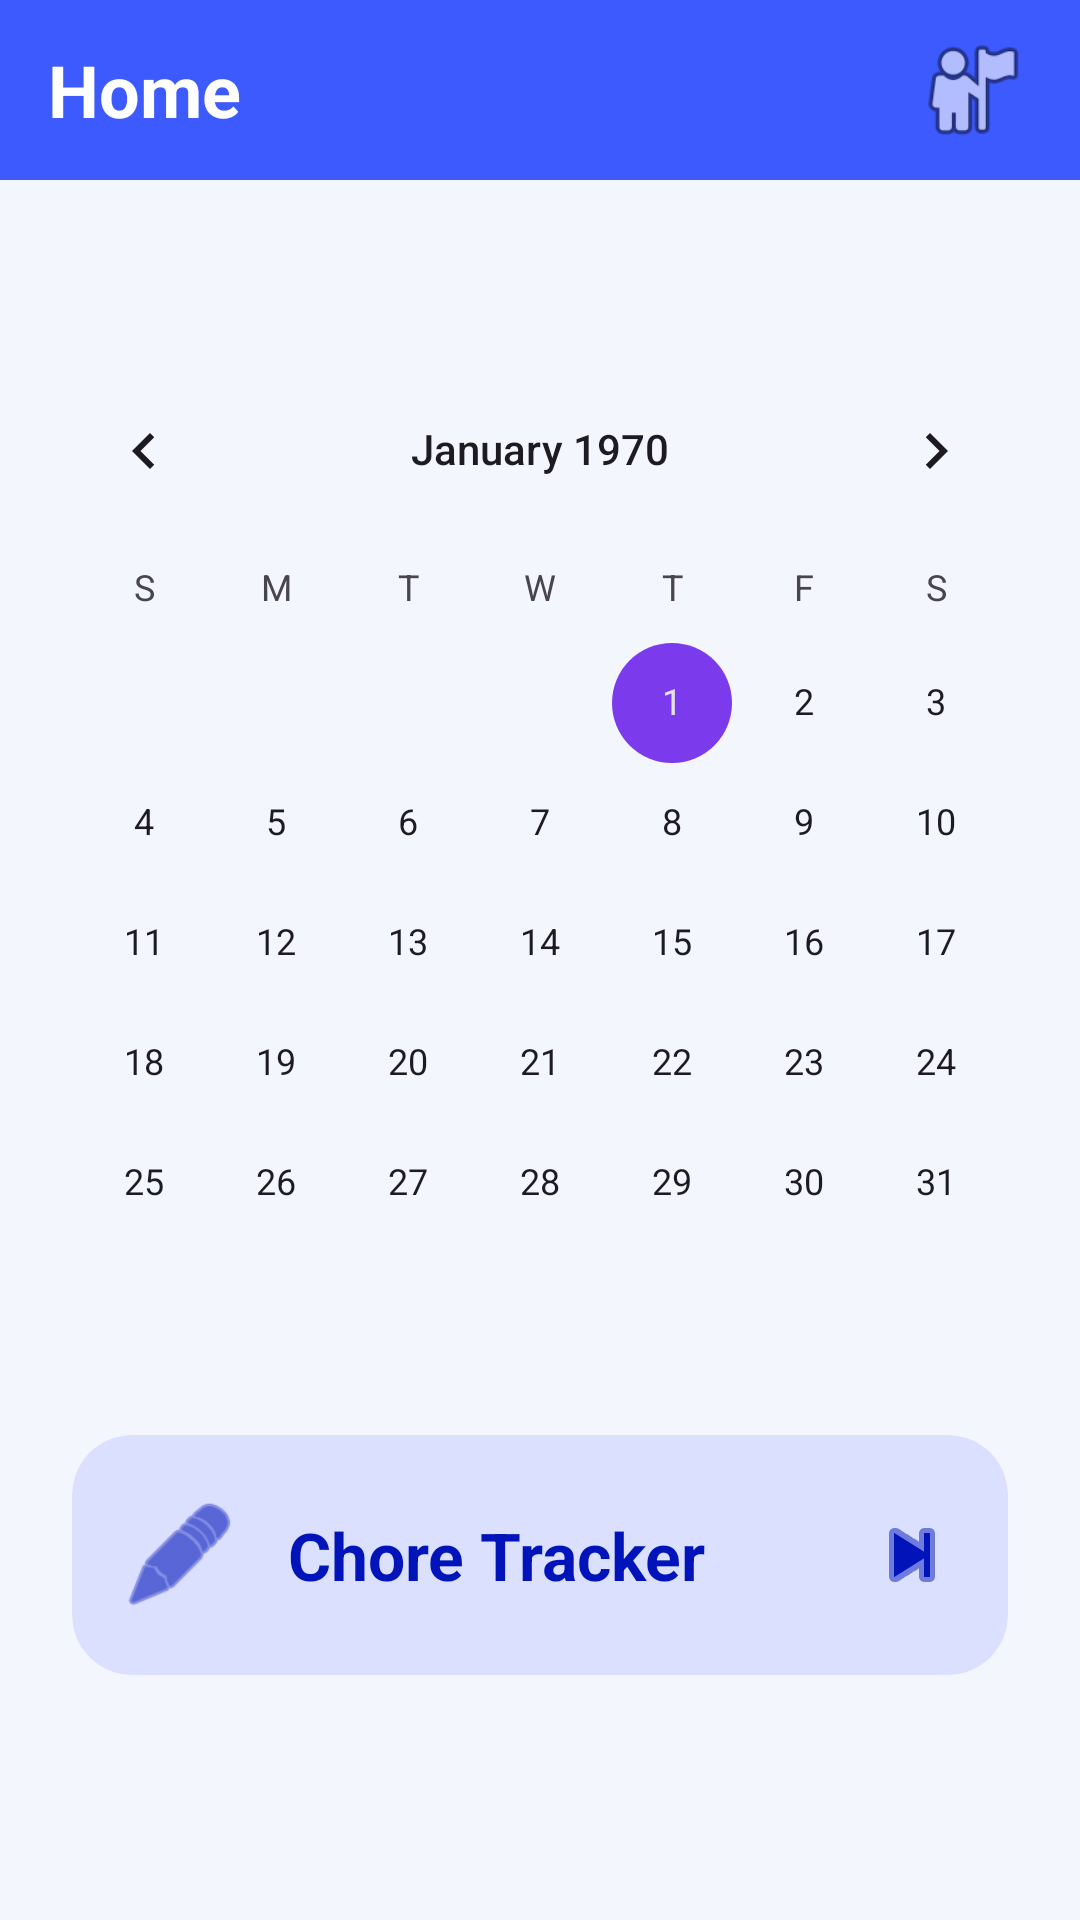

Icons on this 1080 x 1920 Android screen, each with the point to tap as [x,y]:
edit: [179,1554]
next: [912,1555]
Profile: [973,90]
